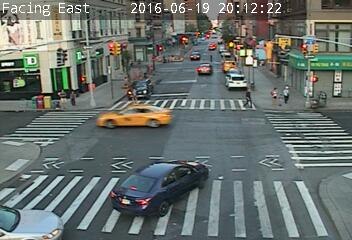neg: (187, 115, 215, 152), (44, 127, 70, 161), (263, 116, 282, 142), (167, 125, 184, 148), (84, 138, 101, 160), (132, 139, 144, 156)
pos: (239, 85, 258, 111), (49, 84, 67, 108), (280, 82, 297, 104), (129, 83, 145, 105), (263, 83, 278, 103), (69, 86, 82, 103)
